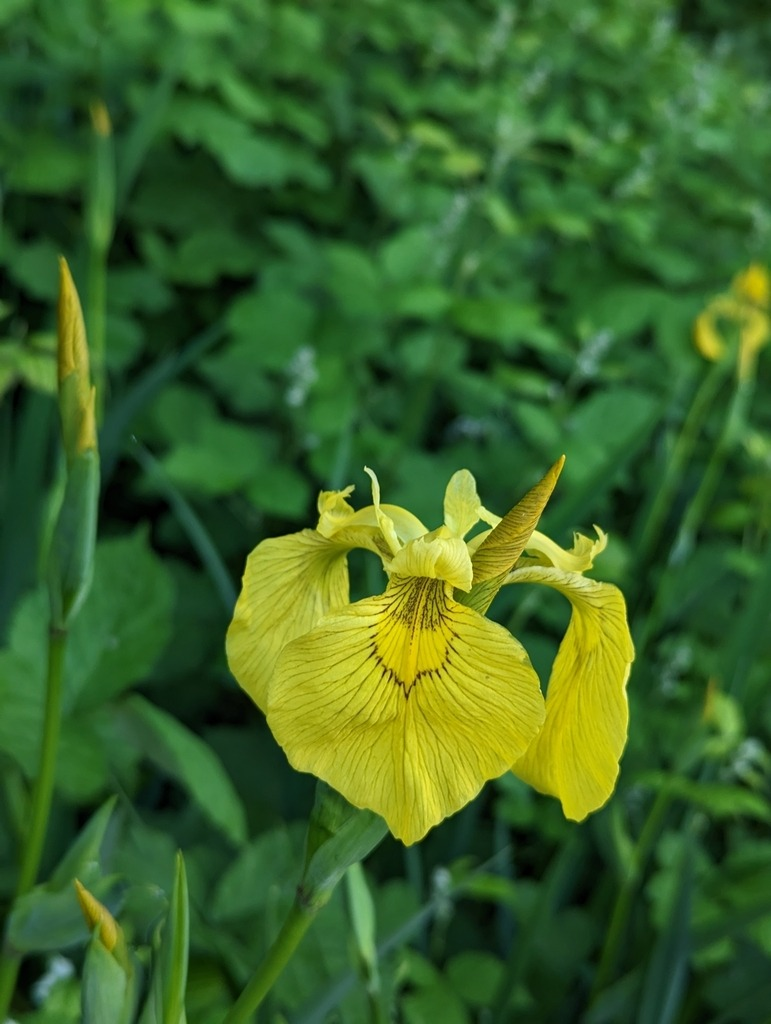yellow flag iris: (220, 450, 639, 852)
